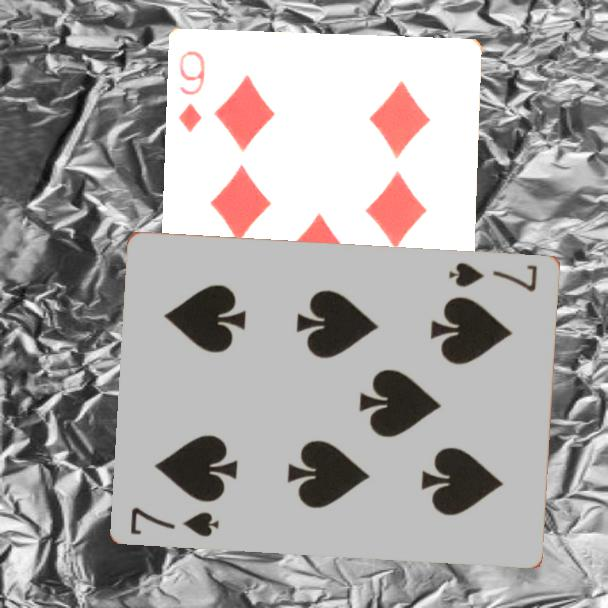d09: (175, 48, 208, 136)
s07: (446, 258, 541, 295), (127, 503, 222, 539)
